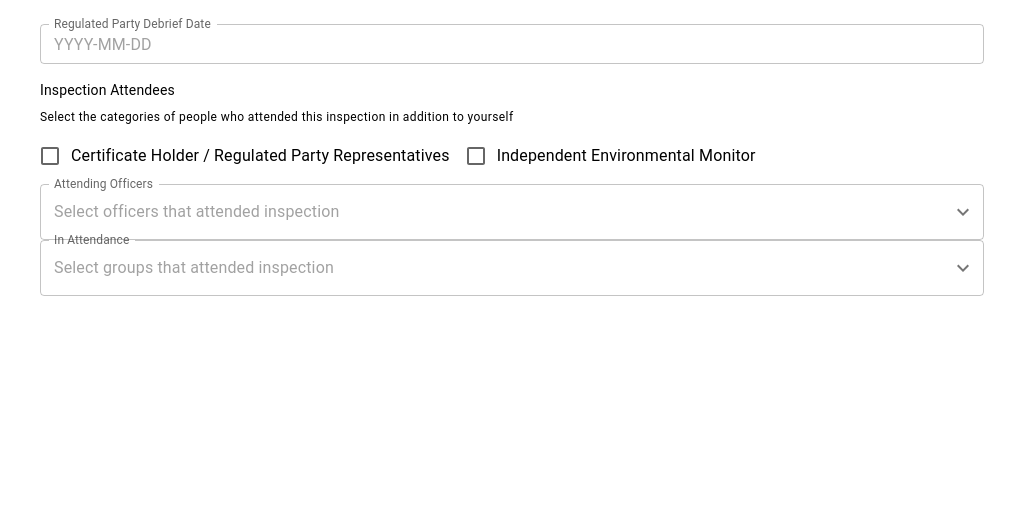
Test: InspectionFormRight Component › displays dynamic fields when firstNation attendance option is selected
Click the dropdown named "inAttendance".
click(497, 268)  # box left=49, top=249, right=945, bottom=287
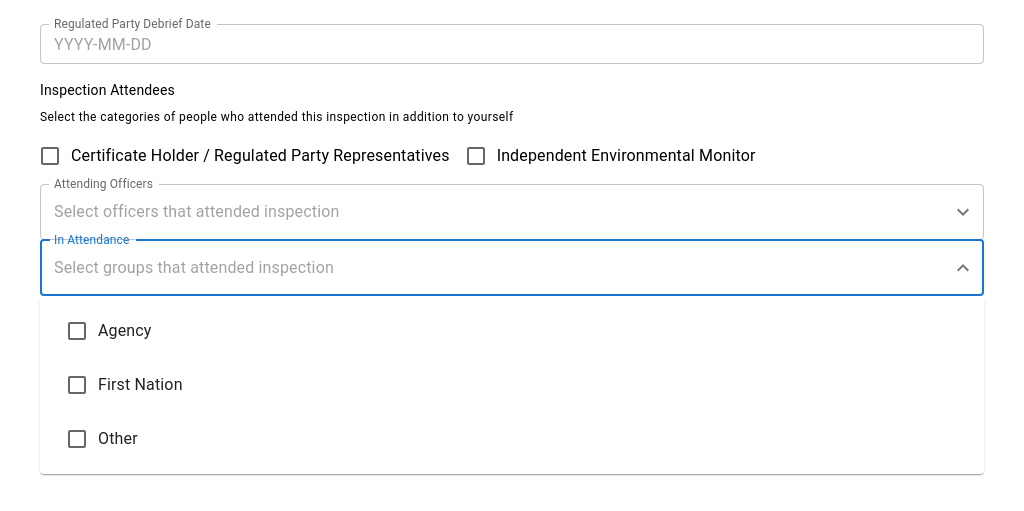
Click the text "First Nation".
click(124, 385)  # box left=65, top=373, right=183, bottom=397
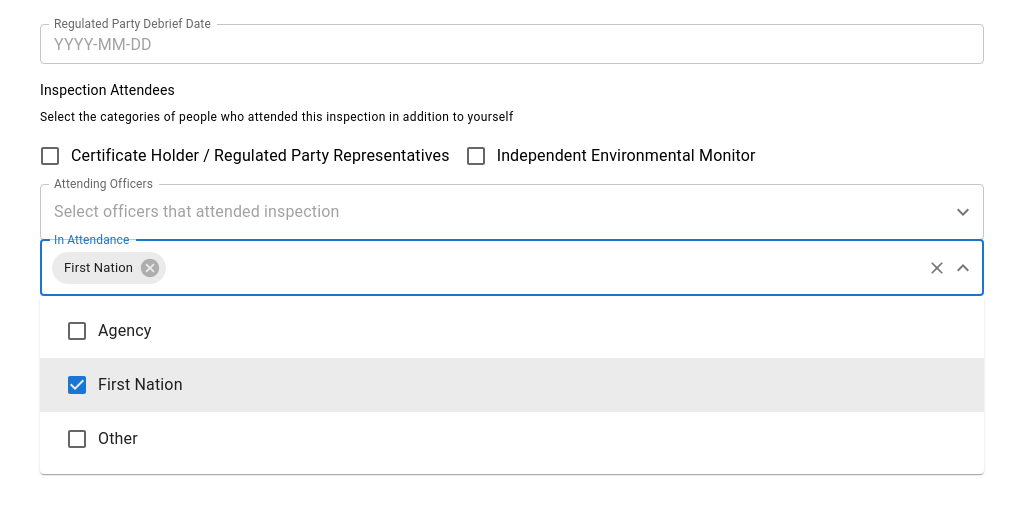
Click the element that starts with "Regulated Party Debrief Date".
click(8, 8)  # box left=8, top=8, right=1016, bottom=368
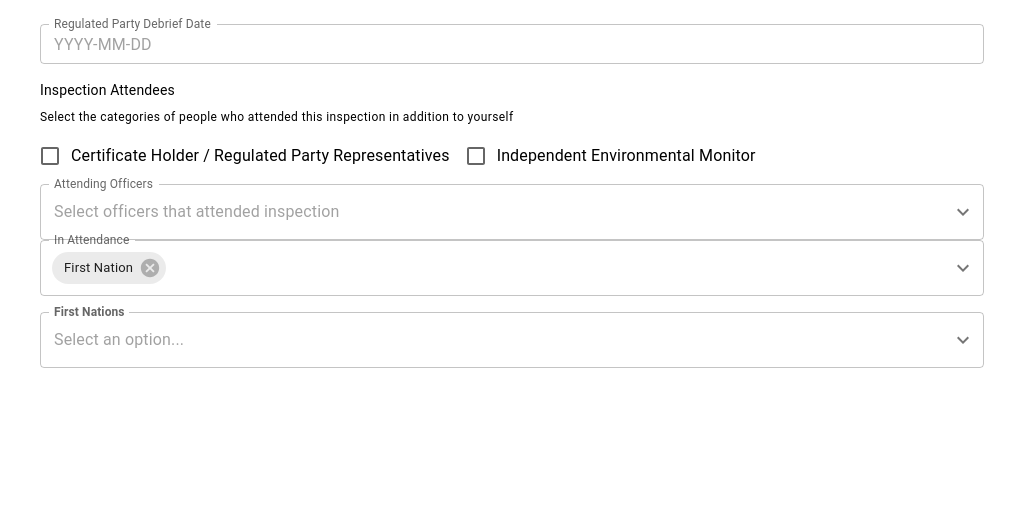
Result: the dropdown named "firstNations" is shown
Click the dropdown named "firstNations".
click(497, 340)  # box left=49, top=321, right=945, bottom=359
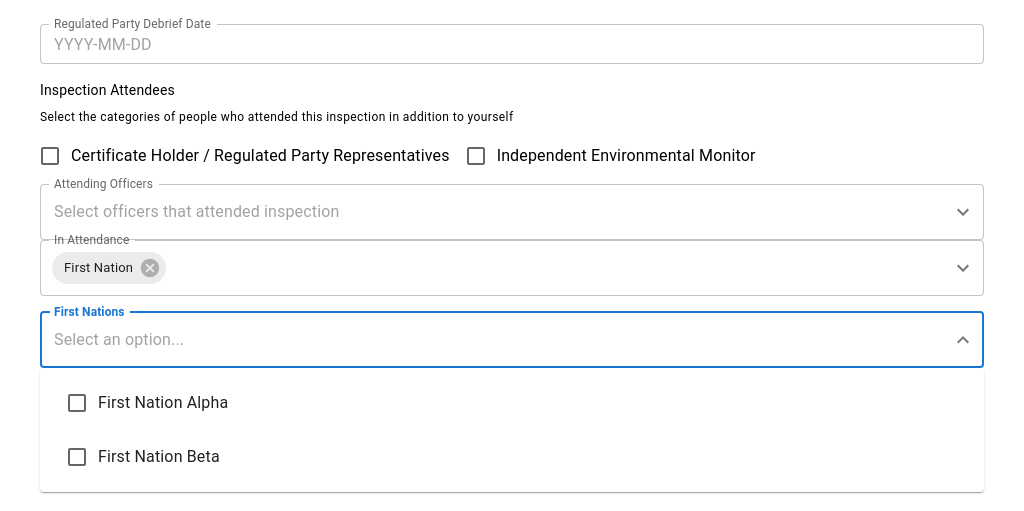
Click the text "First Nation Alpha".
click(147, 403)  # box left=65, top=391, right=228, bottom=415
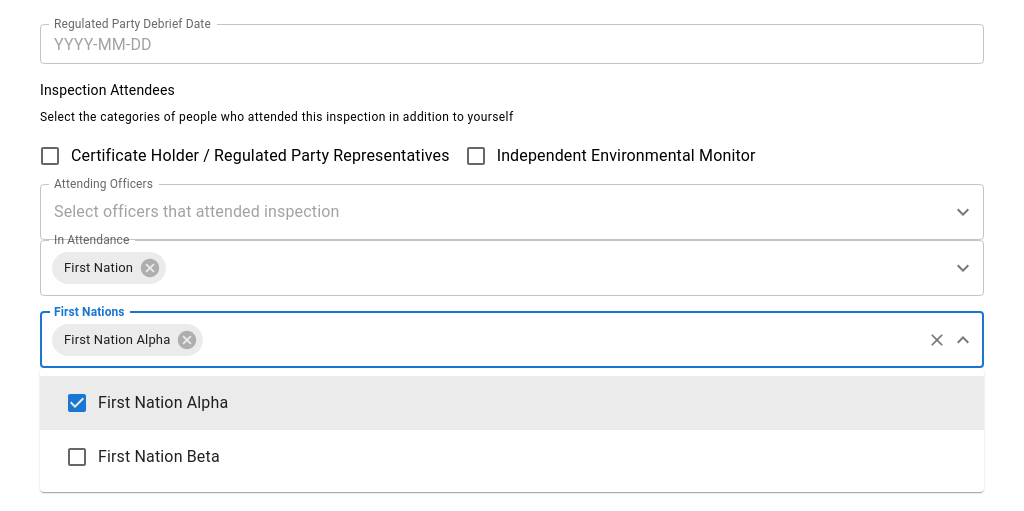
Result: the button "First Nation Alpha" is shown at left=52, top=324, right=203, bottom=356
